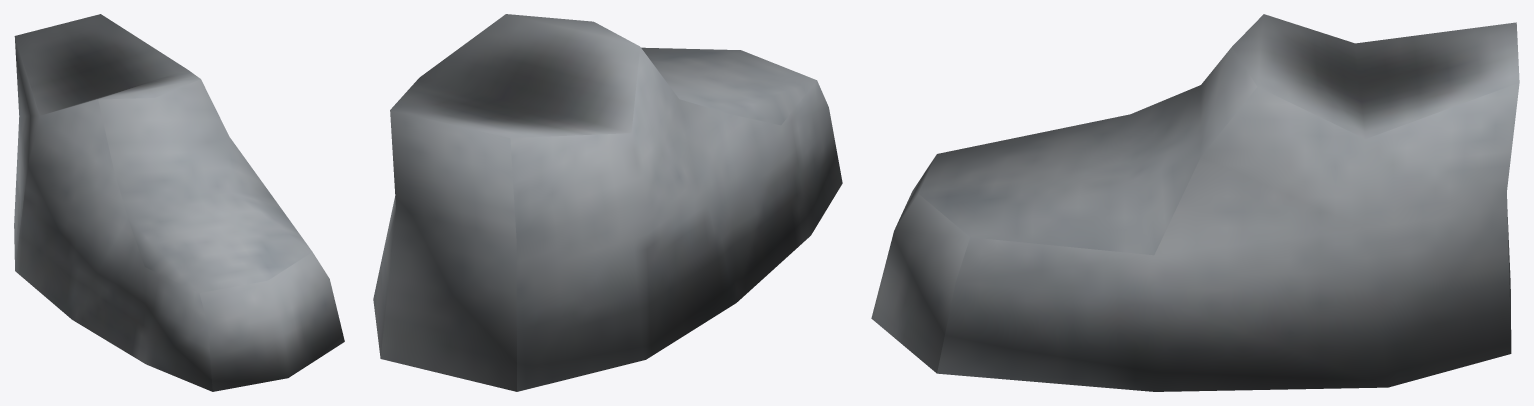
File: grave_marine_boot_l.glb
3 views of the same model, side by side, from view 1: azimuth 30°, elevation 25°; view 2: azimuth 150°, elevation 25°; view 3: azimuth 270°, elevation 25° (orthographic). The views are drawn at different scales.
Parts seen in each view (by area): view 1: scythe_marine_boot_l; view 2: scythe_marine_boot_l; view 3: scythe_marine_boot_l.
Boxes of the visible parts, left/top/right/bottom form: scythe_marine_boot_l: left=14, top=14, right=344, bottom=391; scythe_marine_boot_l: left=373, top=14, right=842, bottom=391; scythe_marine_boot_l: left=871, top=14, right=1519, bottom=391.
Size of the model in its own units: 0.6776 by 0.6035 by 1.3.
1 material, 1 textured.
